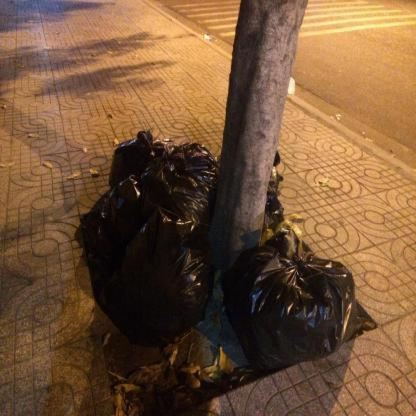Plastic bag - wrapper: (97, 175, 215, 342), (223, 227, 356, 375), (140, 139, 219, 225), (108, 131, 152, 188), (264, 152, 285, 232), (275, 219, 302, 247)
